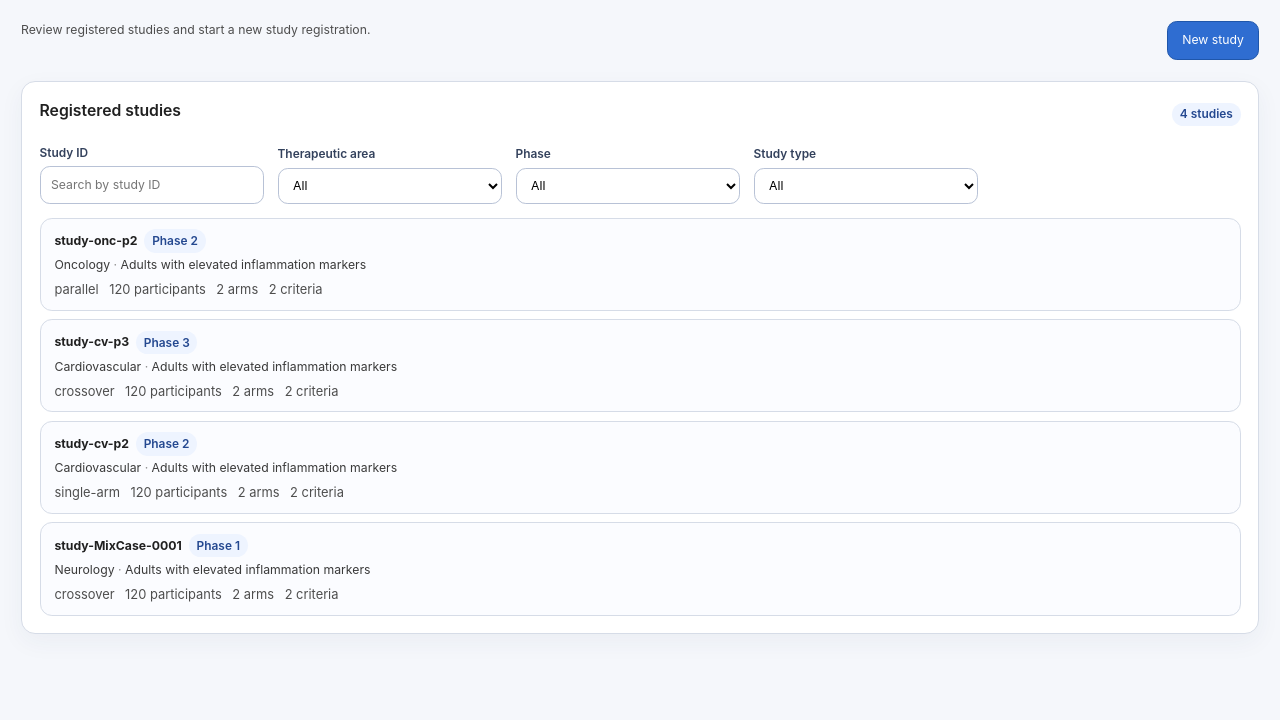
Test: AllStudiesPage filter bar › updates the panel count badge for filtered and unfiltered states
This screenshot has width=1280, height=720.
Check: the text "4 studies" is shown, box [1172, 103, 1240, 126]
Select "Oncology" in the dropdown labelled "Therapeutic area": (390, 186) [278, 168, 502, 204]
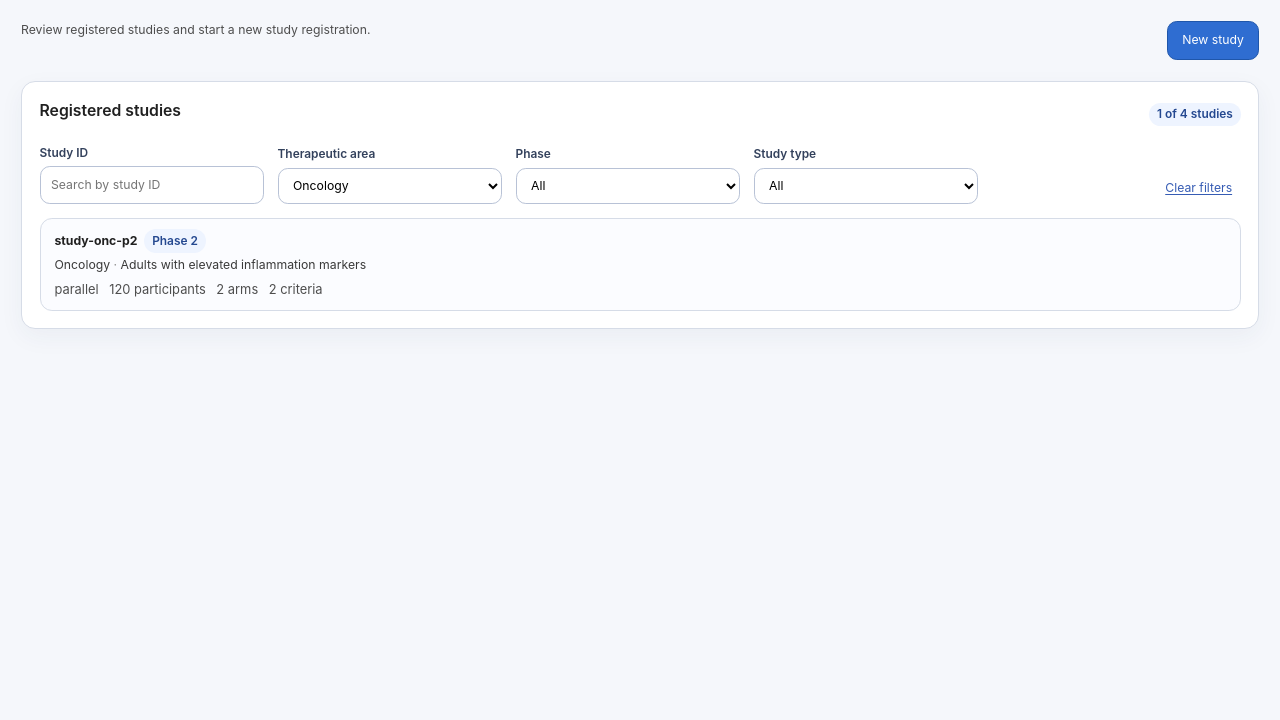
Check: the text "1 of 4 studies" is shown, box [1149, 103, 1240, 126]
